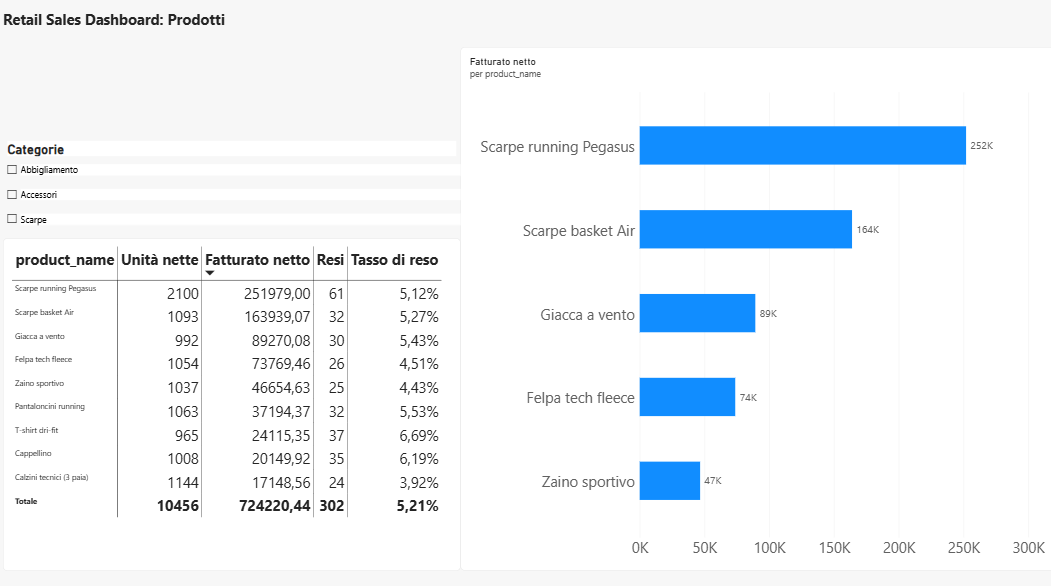

The dashboard page shown, as its layout file describes it:
{"tool":"powerbi","page":{"name":"Prodotti","canvas":[1920,1080],"ordinal":1},"visuals":[{"type":"barChart","fields":{"Category":["dim_product.product_name"],"Y":["fact_sales.Fatturato netto"]},"box":[840.9,90.9,1079.5,952.3],"z":0},{"type":"pivotTable","fields":{"Rows":["dim_product.product_name"],"Values":["fact_sales.Unità nette","fact_sales.Fatturato netto","fact_sales.Resi","fact_sales.Tasso di reso"]},"box":[9.1,438.6,831.8,604.5],"z":1000},{"type":"slicer","fields":{"Values":["dim_product.category"]},"box":[9.1,261.4,831.8,177.3],"z":2000},{"type":"textbox","box":[9.1,22.7,745.5,47.7],"z":3000}]}

Visuals, with their boxes in screenshot pixels (x1, y1, x2, y2), scaled from the page's 1920x1080 canvas onto the 1051x586 screenshot:
barChart - dim_product.product_name x fact_sales.Fatturato netto: bbox(460, 49, 1050, 566)
pivotTable - dim_product.product_name x fact_sales.Unità nette: bbox(5, 238, 460, 566)
slicer - dim_product.category: bbox(5, 142, 460, 238)
textbox: bbox(5, 12, 413, 38)
